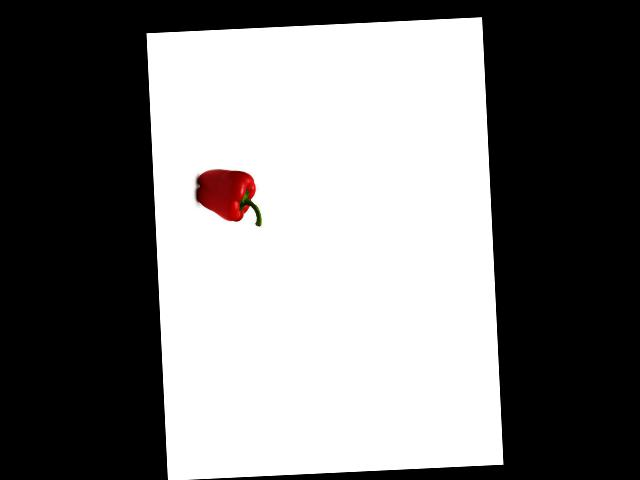bell_pepper: (191, 164, 265, 231)
